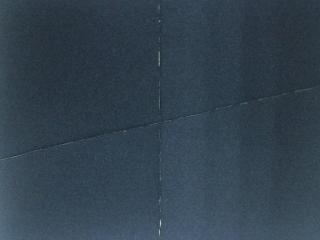crack: (1, 85, 319, 159), (145, 0, 176, 240)
